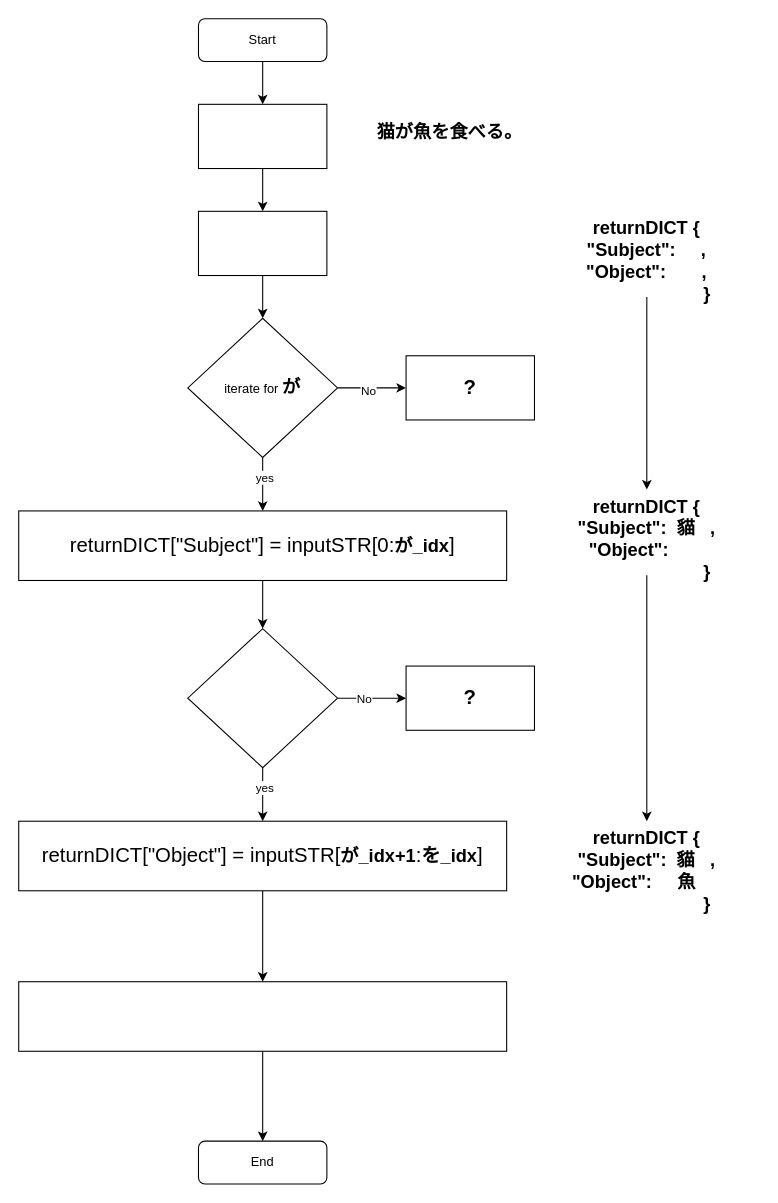
Some shapes in this 778 by 1203 pixel diagram are drawn without their labels. The box of each missing label's shape, as (x1, y1, x2, y2) in pixels:
create returnDICT: (197, 210, 327, 276)
get inputSTR: (197, 103, 327, 169)
iterate for を: (187, 628, 338, 768)
return returnDICT: (18, 981, 507, 1051)
